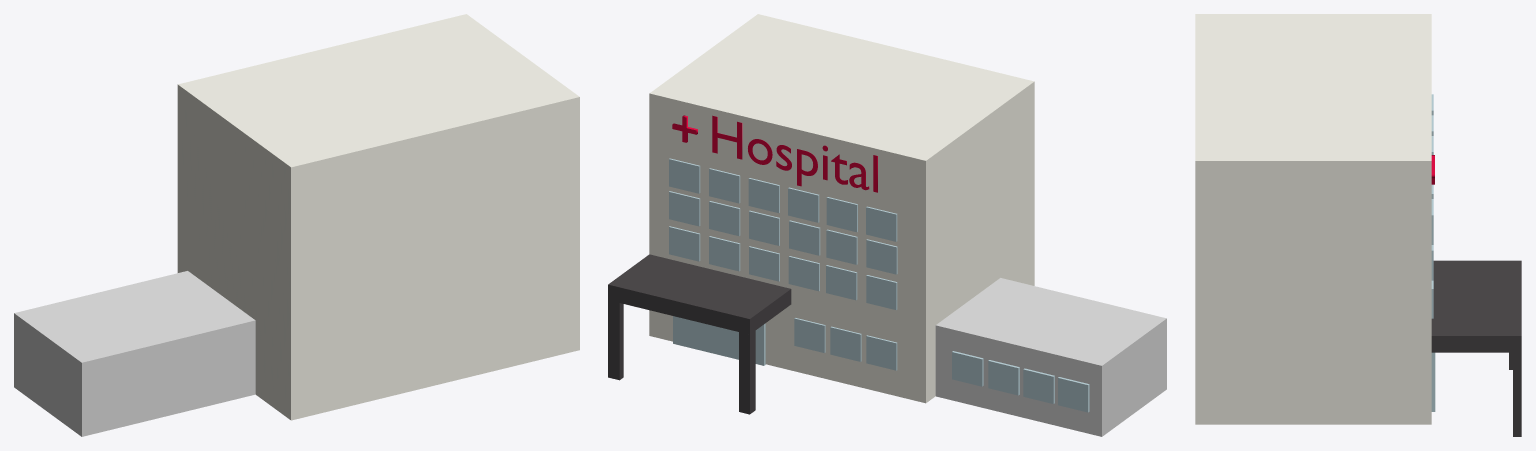
Rendered from hospital.fbx.
3 renders of one model, left to right at view 1: azimuth 30°, elevation 25°; view 2: azimuth 150°, elevation 25°; view 3: azimuth 270°, elevation 25°, orthographic. The views are drawn at different scales.
Visible parts, largest first — view 1: Cube, Cube.001; view 2: Cube, Cube.001, Cube.003, Text.001, Cube.037, Cube.010, Cube.009, Cube.030, Cube.032, Cube.033, Cube.031, Cube.018 (+20 smaller); view 3: Cube, Cube.003, Cube.009.
Boxes of the visible parts, <box> form: Cube: <box>177,14,579,420</box>; Cube.001: <box>14,271,255,436</box>; Cube: <box>649,14,1034,403</box>; Cube.001: <box>935,278,1166,436</box>; Cube.003: <box>608,254,791,334</box>; Text.001: <box>712,115,877,192</box>; Cube.037: <box>673,316,765,365</box>; Cube.010: <box>739,331,755,414</box>; Cube.009: <box>608,300,623,380</box>; Cube.030: <box>1023,368,1054,403</box>; Cube.032: <box>988,360,1019,395</box>; Cube.033: <box>1058,377,1089,412</box>; Cube.031: <box>952,351,983,386</box>; Cube.018: <box>669,191,700,226</box>; Cube: <box>1195,14,1431,424</box>; Cube.003: <box>1431,260,1521,352</box>; Cube.009: <box>1513,352,1521,436</box>.
Size of the model in its own units: 863 by 477 by 506.
